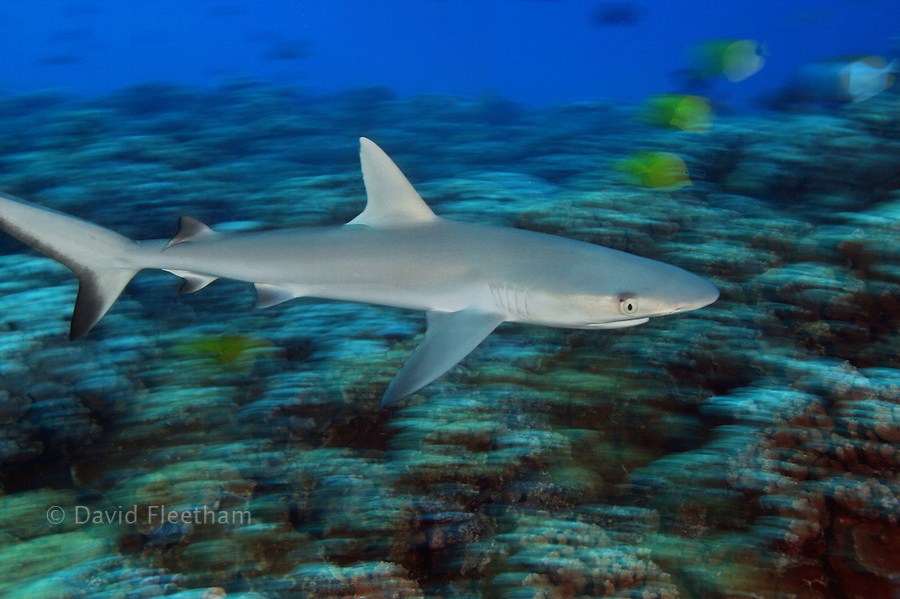Carcharhinus_amblyrhynchos: (1, 130, 726, 420)
